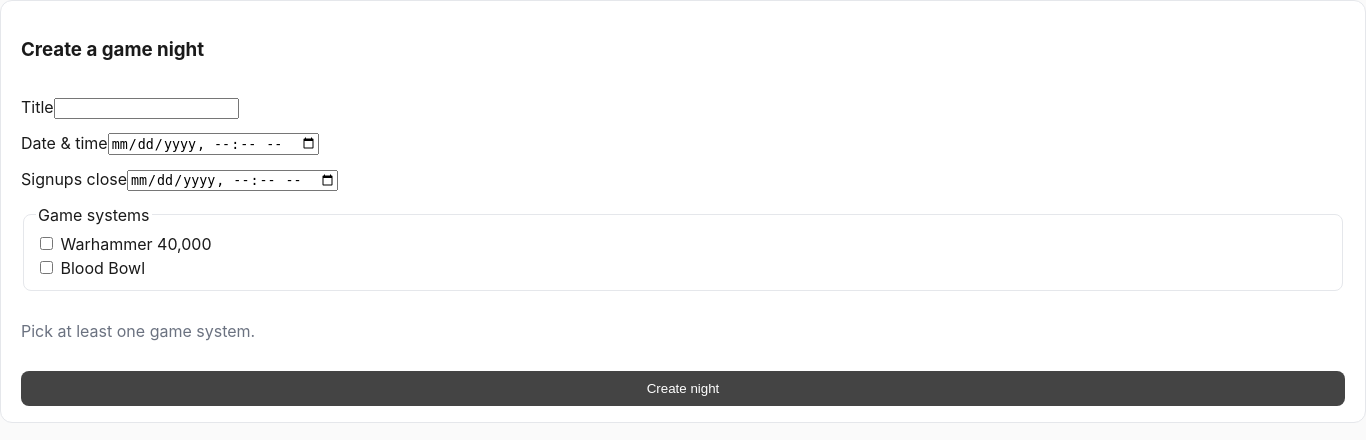
CreateNightForm › shows a not-an-organizer message on 403
Step 1. Type "Thursday Night" into the field labelled "Title" → (146, 108), box [54,98,239,118]
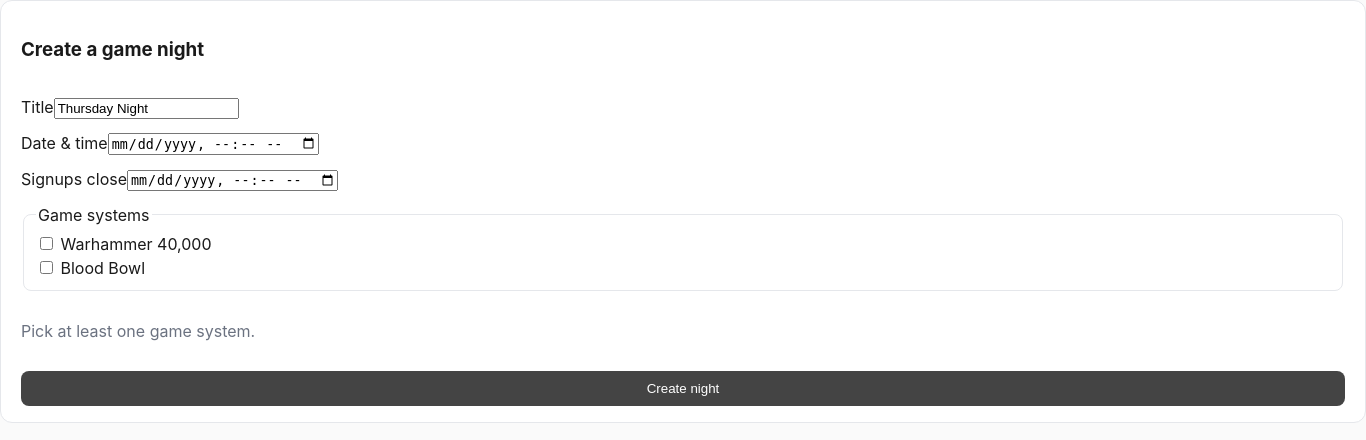
Step 2. Type "2026-07-02T18:00" into the field labelled "Date & time" → (213, 144), box [108,133,319,155]
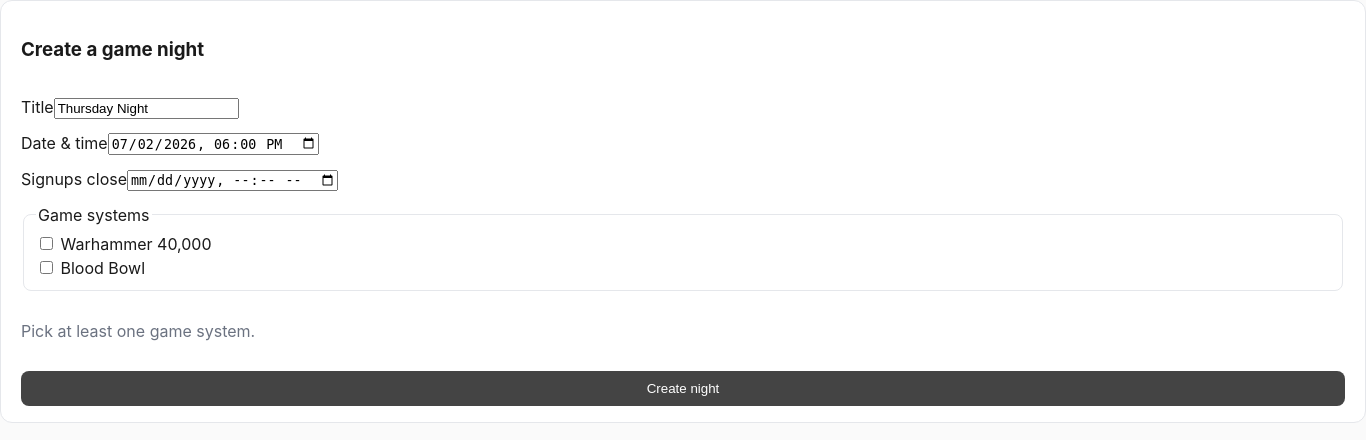
Step 3. Type "2026-07-02T12:00" into the field labelled "Signups close" → (233, 180), box [127,170,338,191]
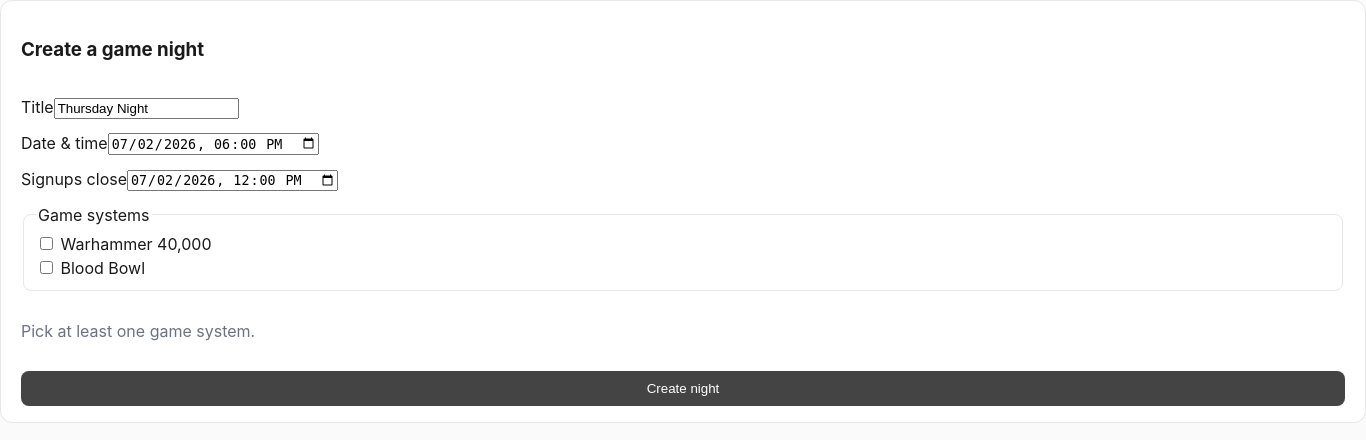
Step 4. Click the checkbox labelled "Warhammer 40,000" → (46, 244), box [40,238,53,250]
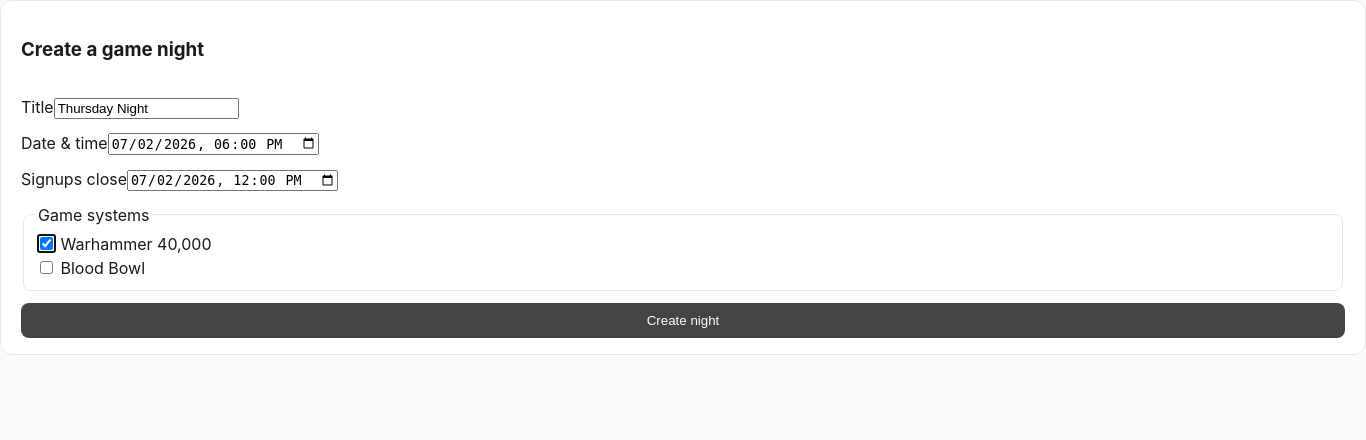
Step 5. Click the button "Create night" → (683, 321), box [21,304,1345,338]
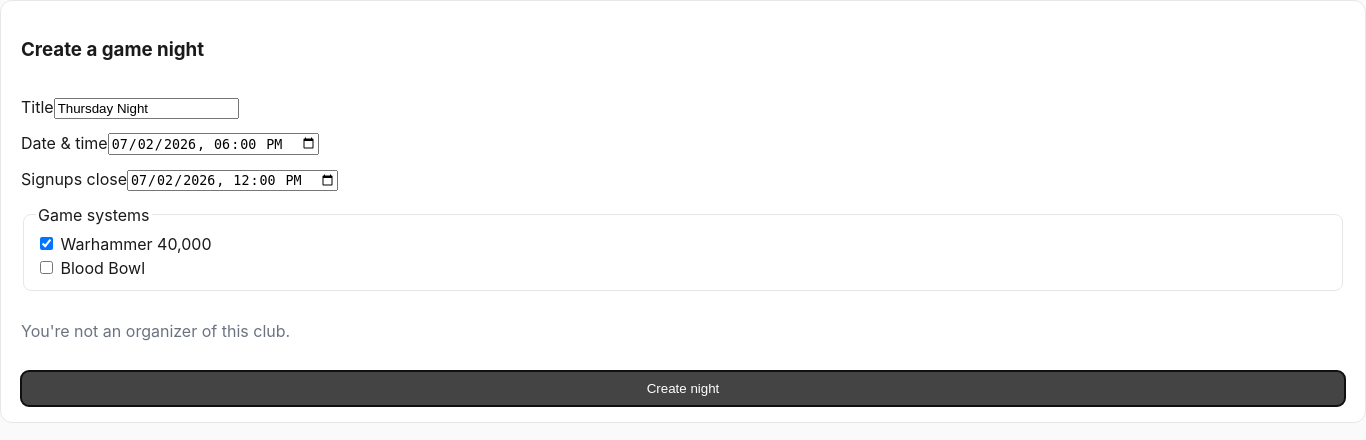
expect the message shows "not an organizer": met, box [21,322,290,342]
